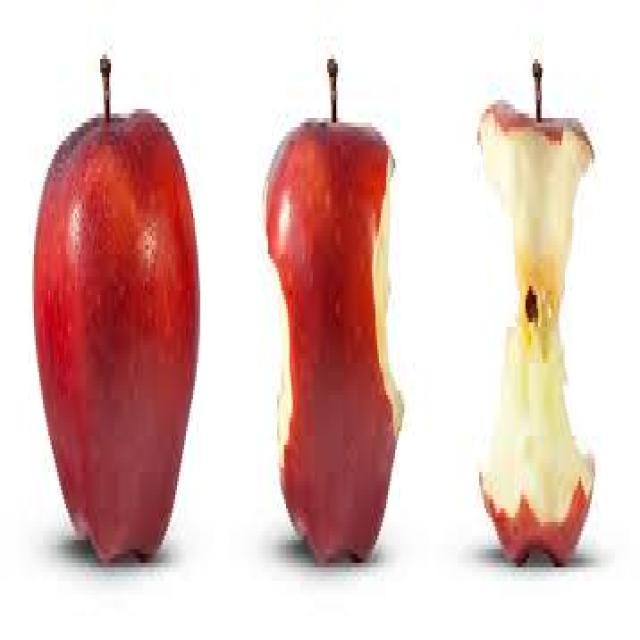Red Apple: (33, 113, 199, 561)
Used Apple: (264, 120, 404, 564), (477, 97, 594, 560)
